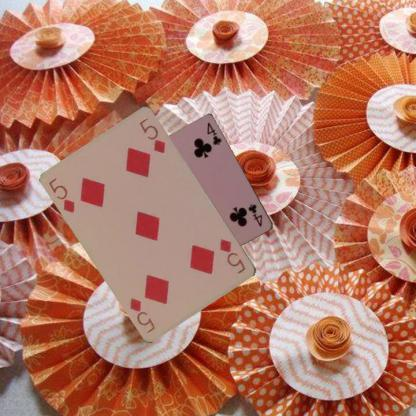4c: (245, 202, 264, 228)
5d: (46, 175, 77, 215), (218, 236, 247, 276)
